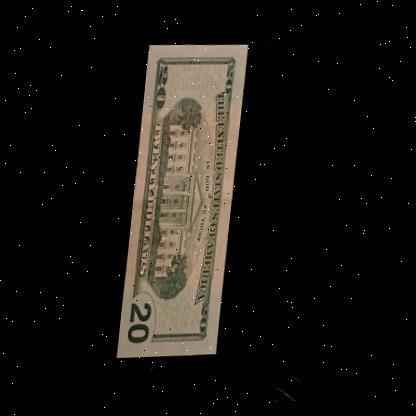twenty-back: (122, 42, 248, 362)
